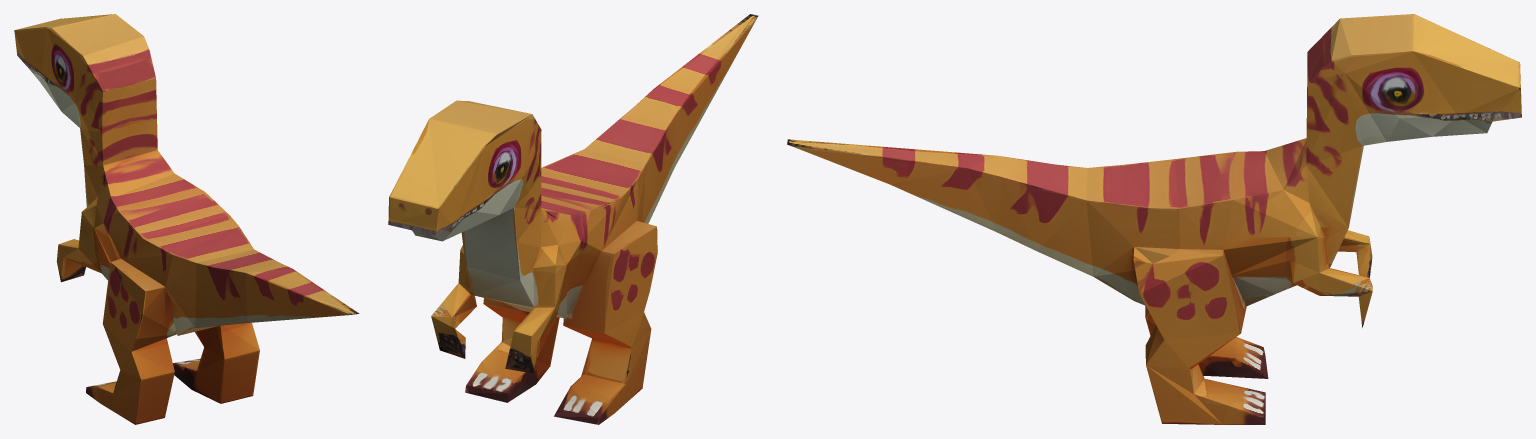
The picture shows the model from 3 angles, left to right: view 1: azimuth 30°, elevation 25°; view 2: azimuth 150°, elevation 25°; view 3: azimuth 270°, elevation 25°; orthographic projection. The views are drawn at different scales.
Parts seen in each view (by area): view 1: Figure; view 2: Figure; view 3: Figure.
Boxes of the visible parts, x1,y1,x2,y2 form: Figure: (14, 14, 359, 424); Figure: (388, 14, 758, 424); Figure: (787, 14, 1521, 424).
Bounding box in the file's own units: 0.216 × 0.5098 × 0.9454.
1 material, 1 textured.
